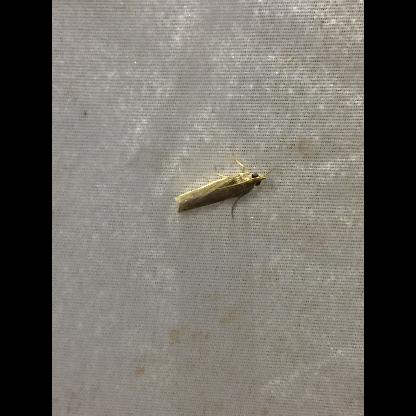Fall Armyworm Moth: (170, 156, 276, 222)
